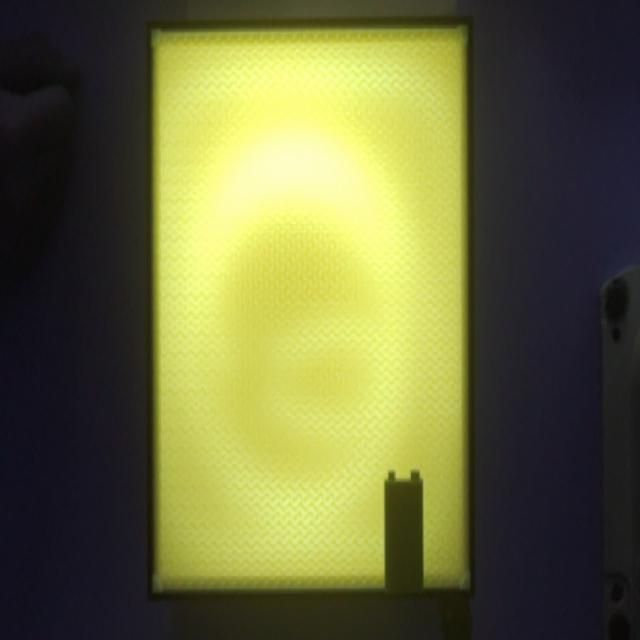bateria: (384, 472, 423, 593)
mesa: (146, 17, 476, 599)
